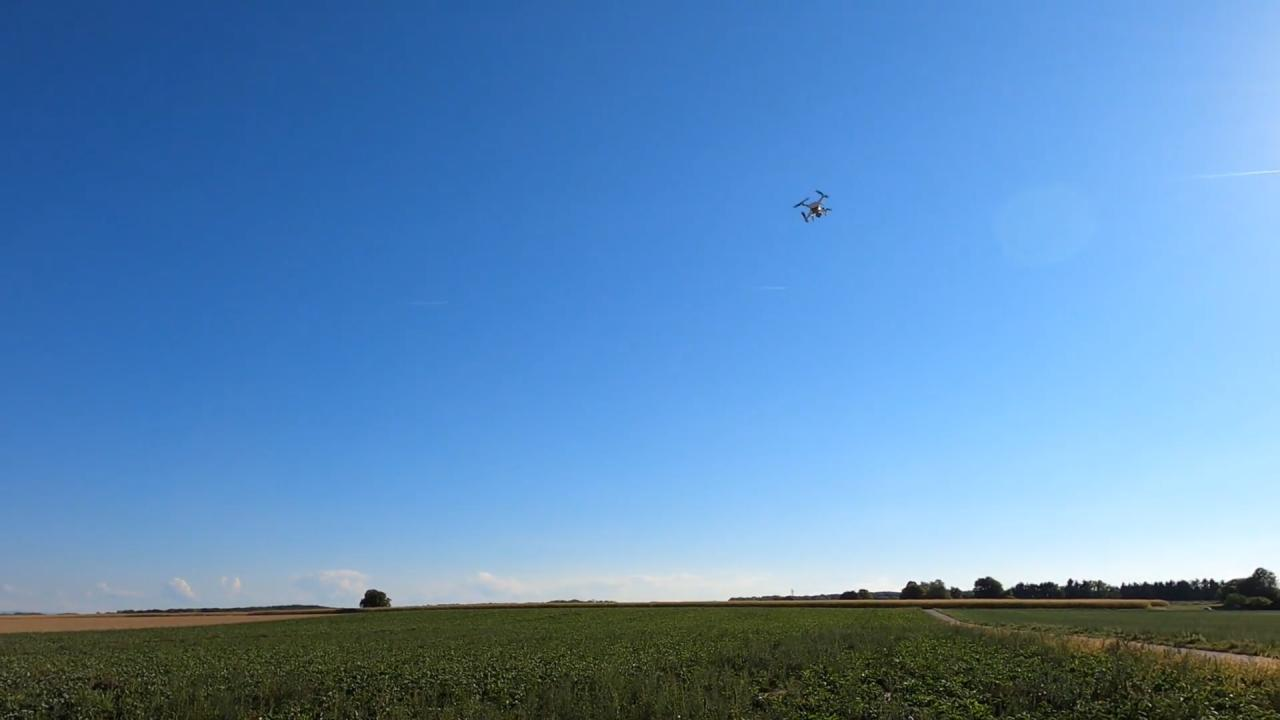Drone: (786, 182, 842, 233)
